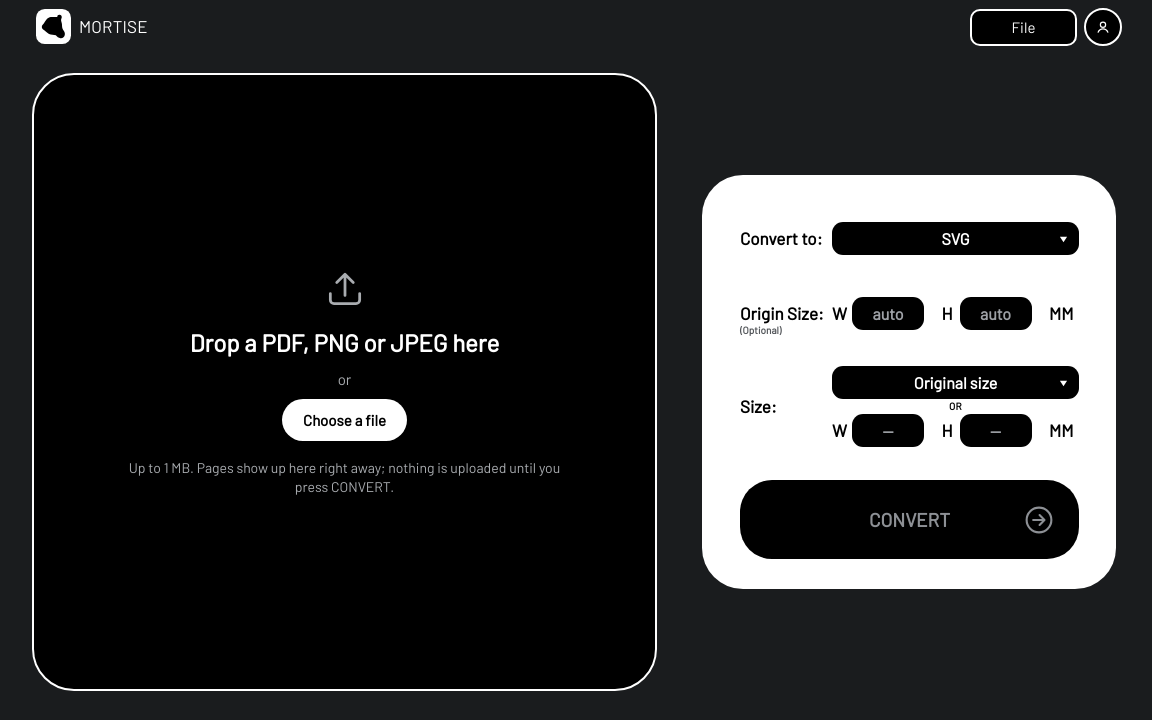
Test: App › switches the interface to Traditional Chinese and remembers it
Later steps or results of the test are not shown.
Click the button named "Account" at (1103, 27), box [1084, 8, 1122, 46]
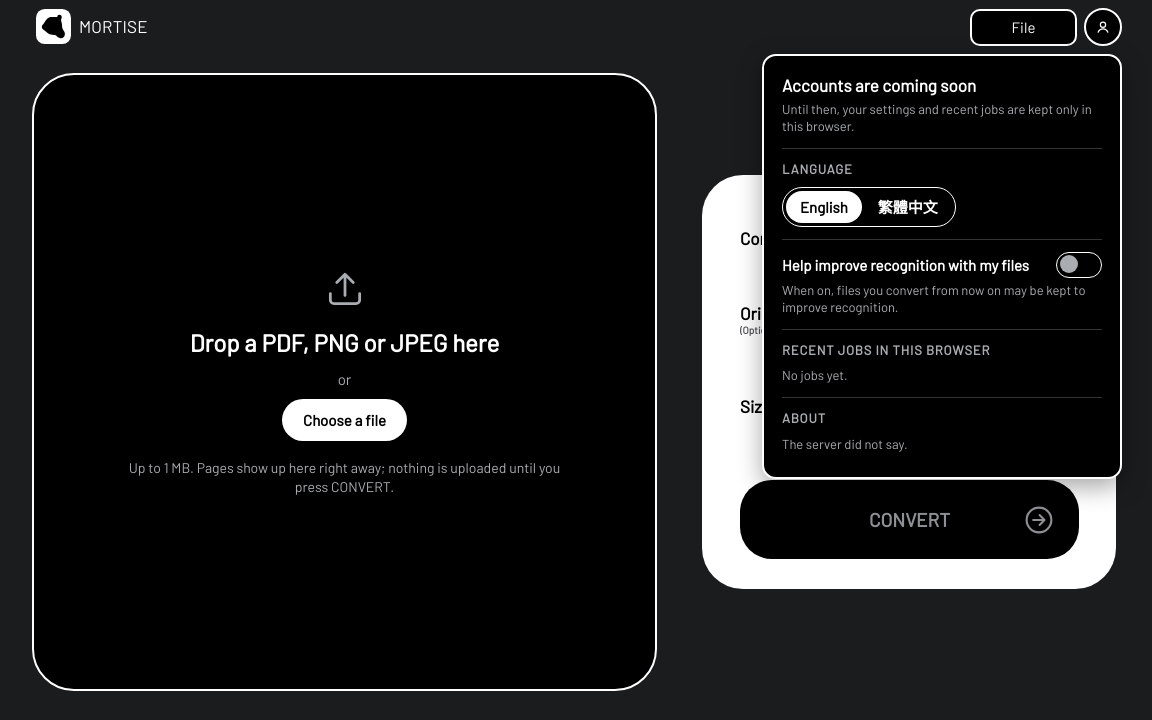
Check: the text "Accounts are coming soon" is shown, box [782, 75, 976, 95]
Click the radio button labelled "繁體中文" at (908, 207), box [864, 191, 952, 223]
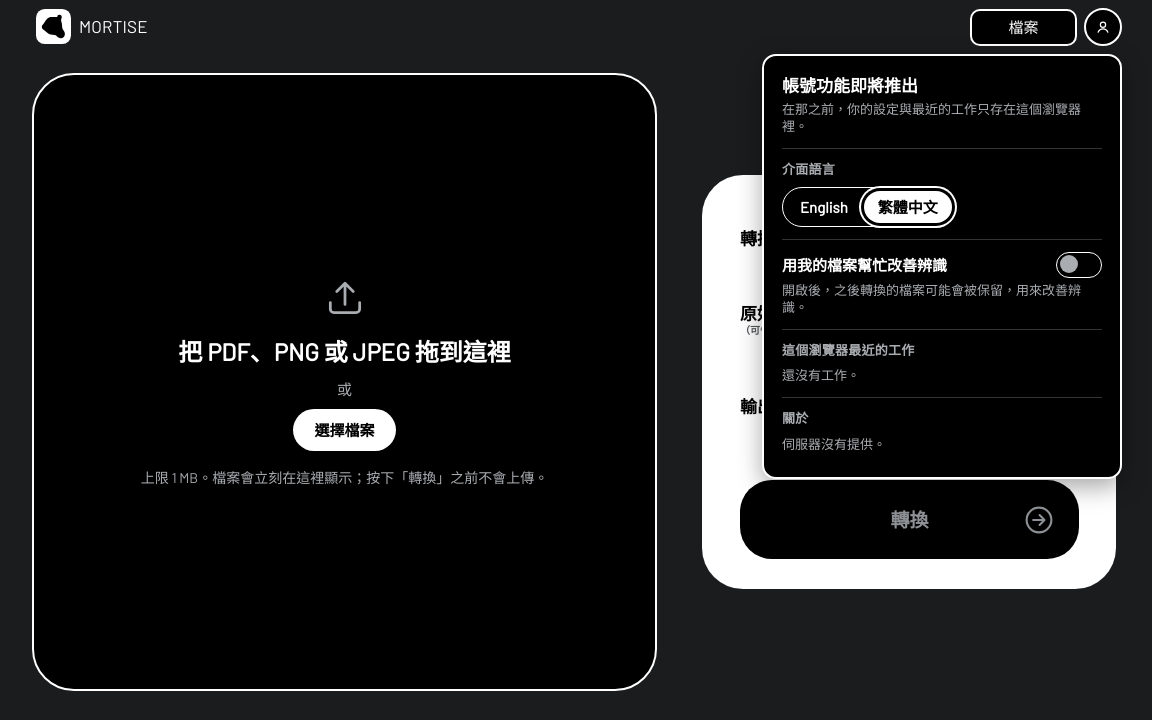
Check: the button "轉換" is shown, box [740, 480, 1079, 559]
Check: the text "轉換為：" is shown, box [740, 228, 808, 248]
